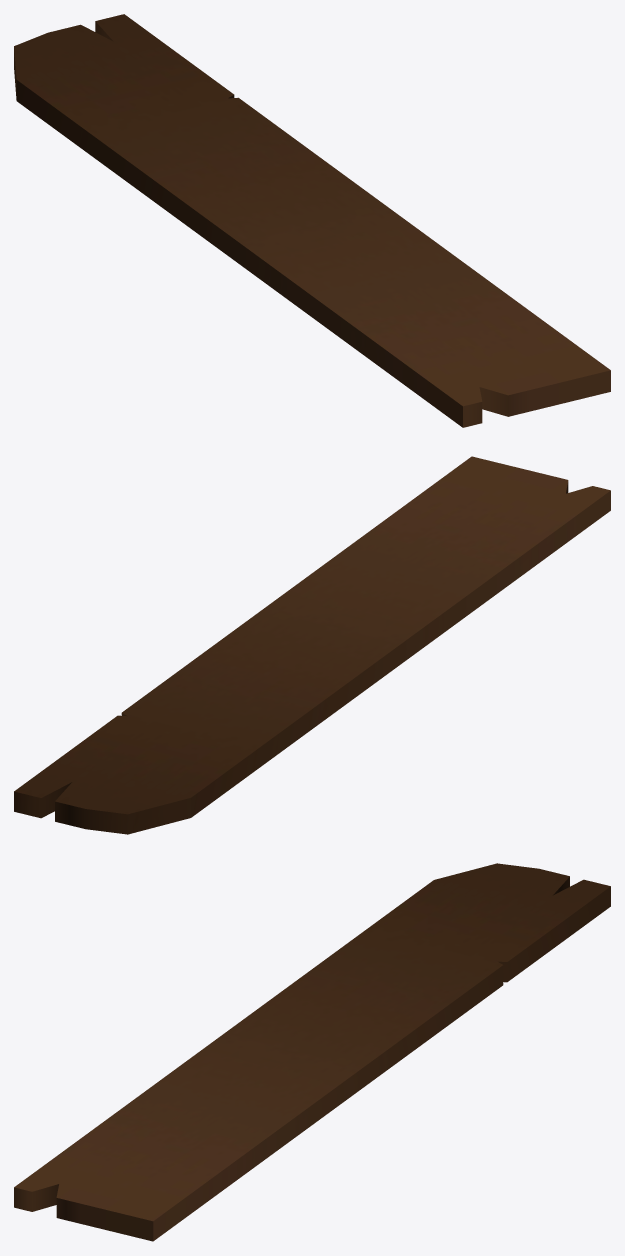
The model's file is WoodenPlankos3.fbx.
The picture shows the model from 3 angles, top to bottom: view 1: azimuth 30°, elevation 25°; view 2: azimuth 150°, elevation 25°; view 3: azimuth 330°, elevation 25°; orthographic projection. The views are drawn at different scales.
Parts seen in each view (by area): view 1: WoodenPlankos3; view 2: WoodenPlankos3; view 3: WoodenPlankos3.
Part boxes in pixels (box(x1,y1,x2,y2)): WoodenPlankos3: box(14, 14, 610, 427); WoodenPlankos3: box(14, 456, 610, 834); WoodenPlankos3: box(14, 863, 610, 1241).
Size of the model in its own units: 1 by 0.1389 by 5.7.
